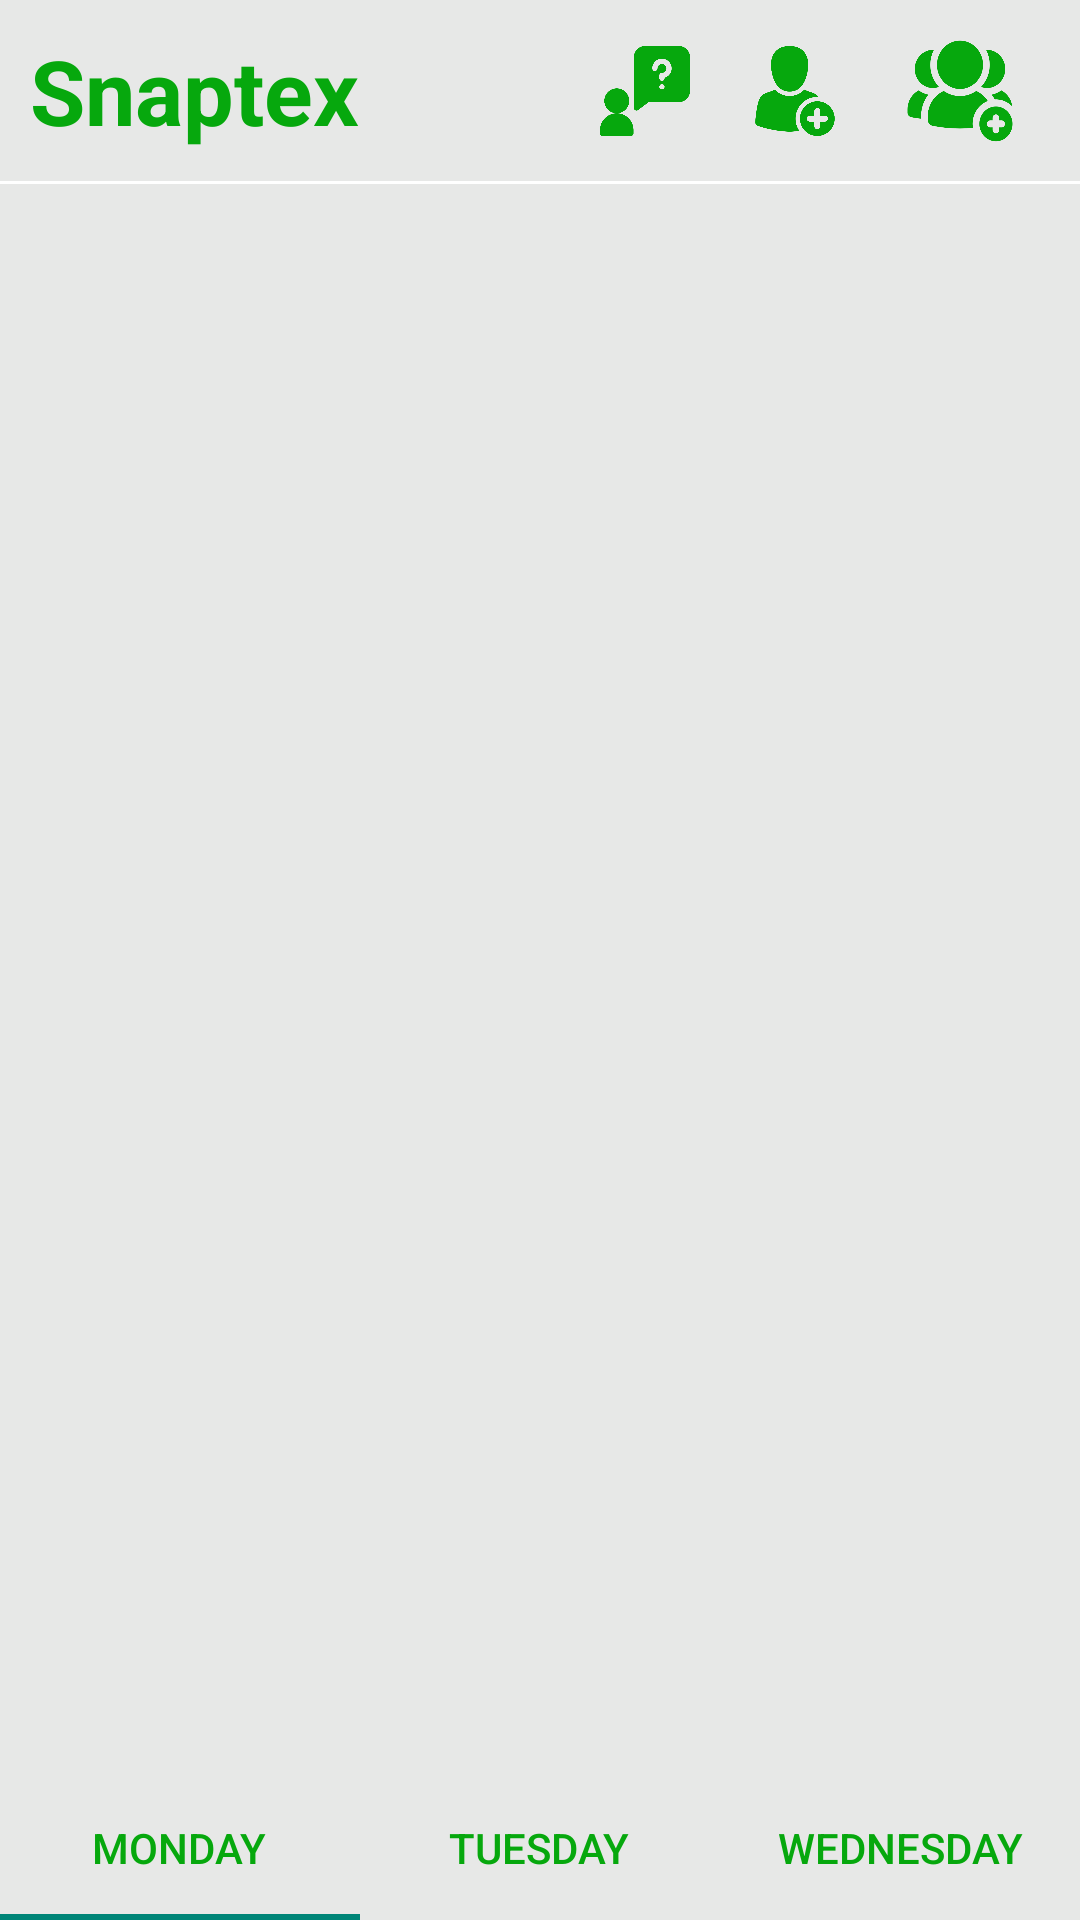

Named icons in this screenshot (1080*1920) and their centers, (x=x, y=y):
groupadd: (x=960, y=90)
newuser: (x=795, y=91)
request: (x=645, y=91)
